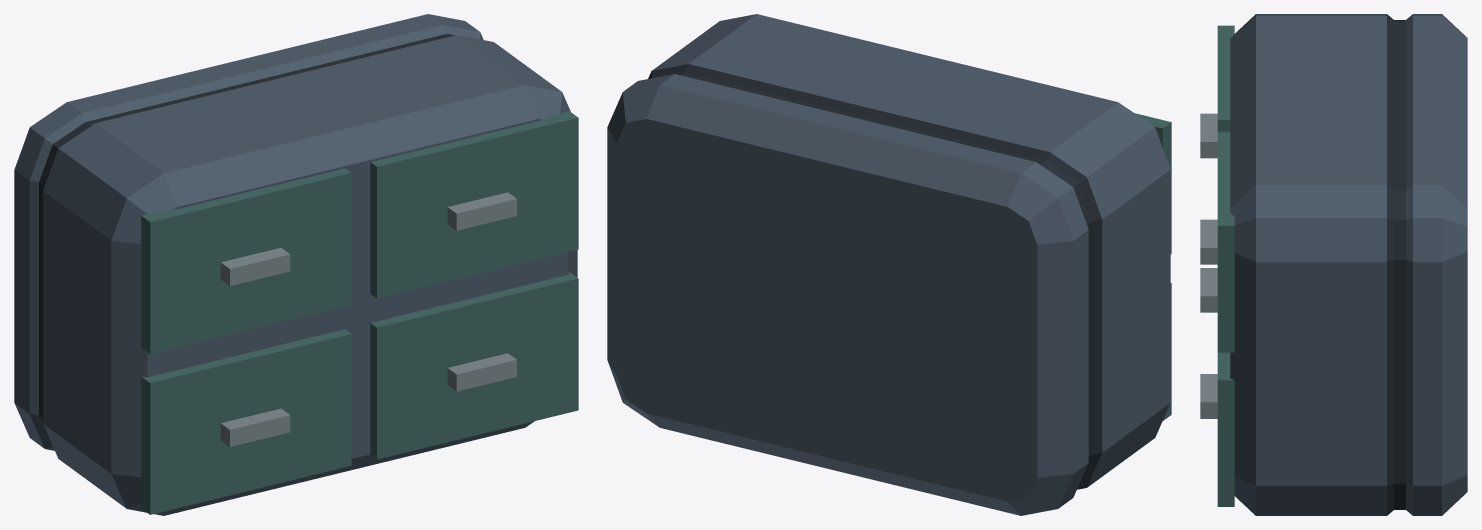
The model's file is L-19_reagent_drawers.glb.
3 renders of one model, left to right at view 1: azimuth 30°, elevation 25°; view 2: azimuth 150°, elevation 25°; view 3: azimuth 270°, elevation 25°, orthographic. The views are drawn at different scales.
Parts seen in each view (by area): view 1: L-19_reagent_drawers; view 2: L-19_reagent_drawers; view 3: L-19_reagent_drawers.
Part boxes in pixels (box(x1,y1,x2,y2)): L-19_reagent_drawers: box(14, 14, 578, 515); L-19_reagent_drawers: box(607, 14, 1171, 515); L-19_reagent_drawers: box(1200, 14, 1467, 515).
Bounding box in the file's own units: 0.37 × 0.26 × 0.1915.
